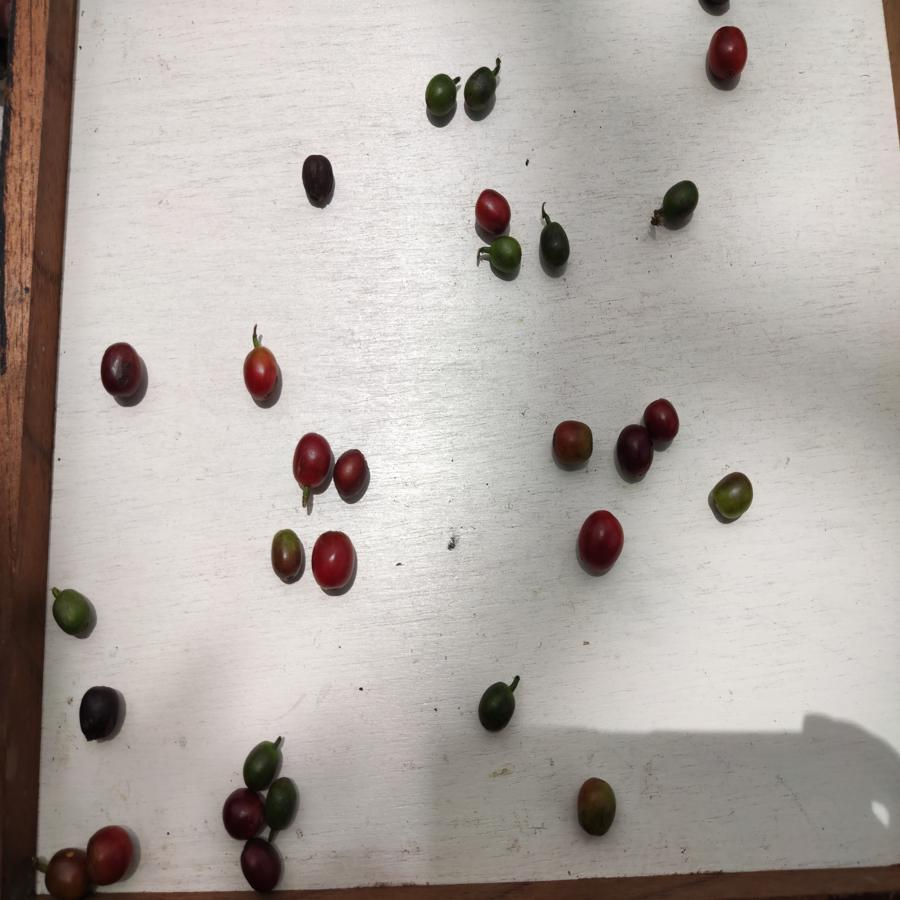Inmaduro: (527, 220, 574, 271), (48, 587, 98, 634), (477, 679, 517, 734), (241, 741, 284, 785), (659, 180, 702, 221), (265, 776, 297, 831), (482, 236, 524, 277), (423, 73, 459, 117), (464, 68, 498, 112)
Maduro: (85, 820, 138, 884), (309, 532, 358, 595), (290, 431, 331, 495), (705, 24, 749, 83), (240, 346, 280, 405), (475, 188, 512, 234)
Pinton: (577, 776, 620, 838), (708, 471, 756, 523), (547, 417, 595, 468), (43, 846, 87, 900), (271, 527, 305, 586)
Sobremaduro: (577, 508, 623, 571), (97, 343, 144, 399), (78, 684, 122, 741), (238, 838, 283, 890), (614, 423, 653, 476), (222, 790, 264, 838), (335, 447, 369, 502), (642, 398, 679, 444), (303, 153, 334, 205)
